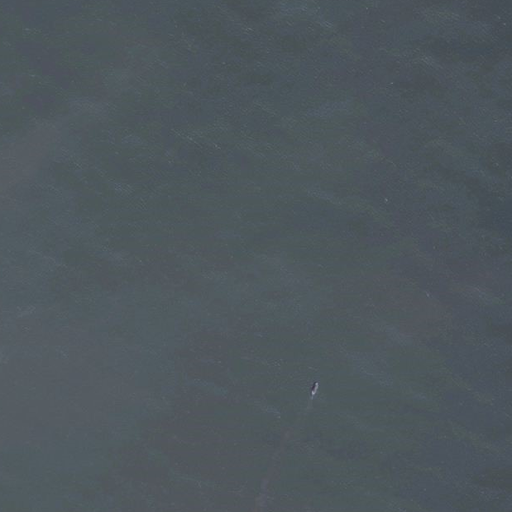ship: (306, 379, 322, 399)
